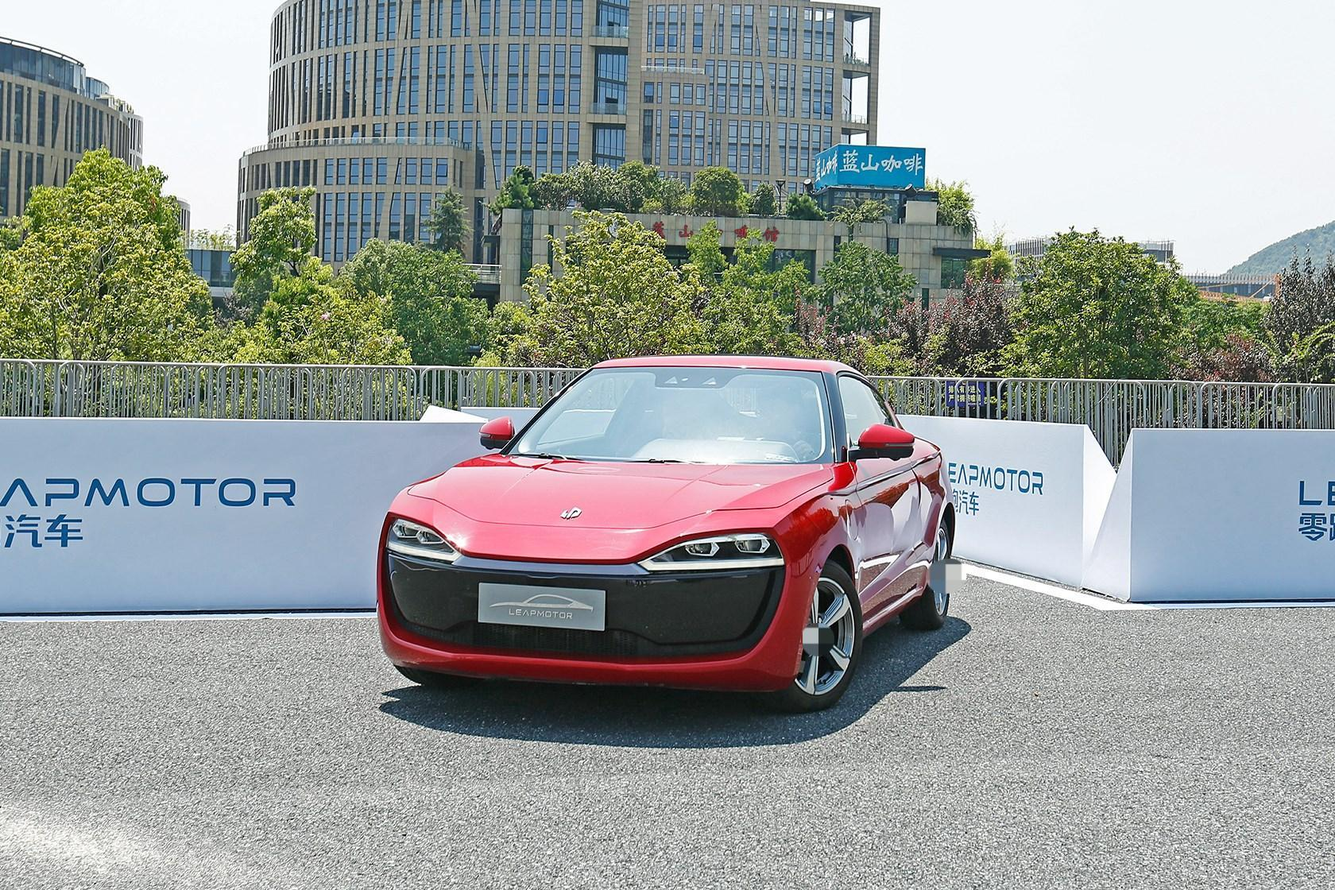LEAPMOTOR: (560, 506, 582, 520)
